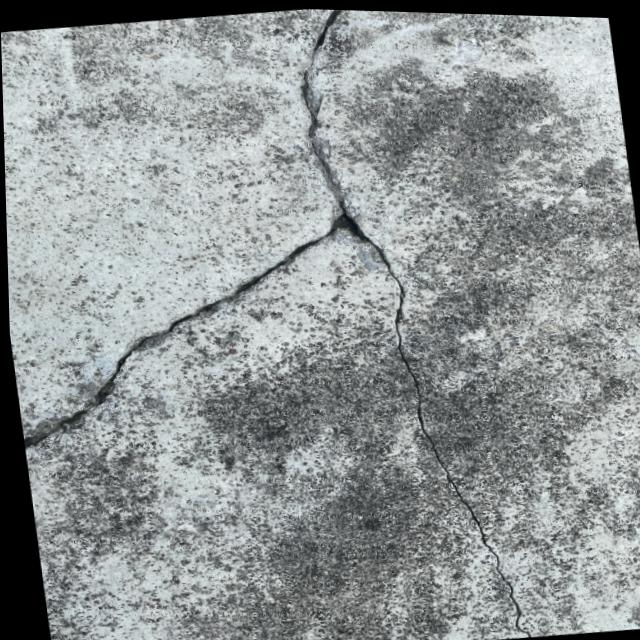Crack: (282, 7, 573, 640), (5, 194, 344, 560)
